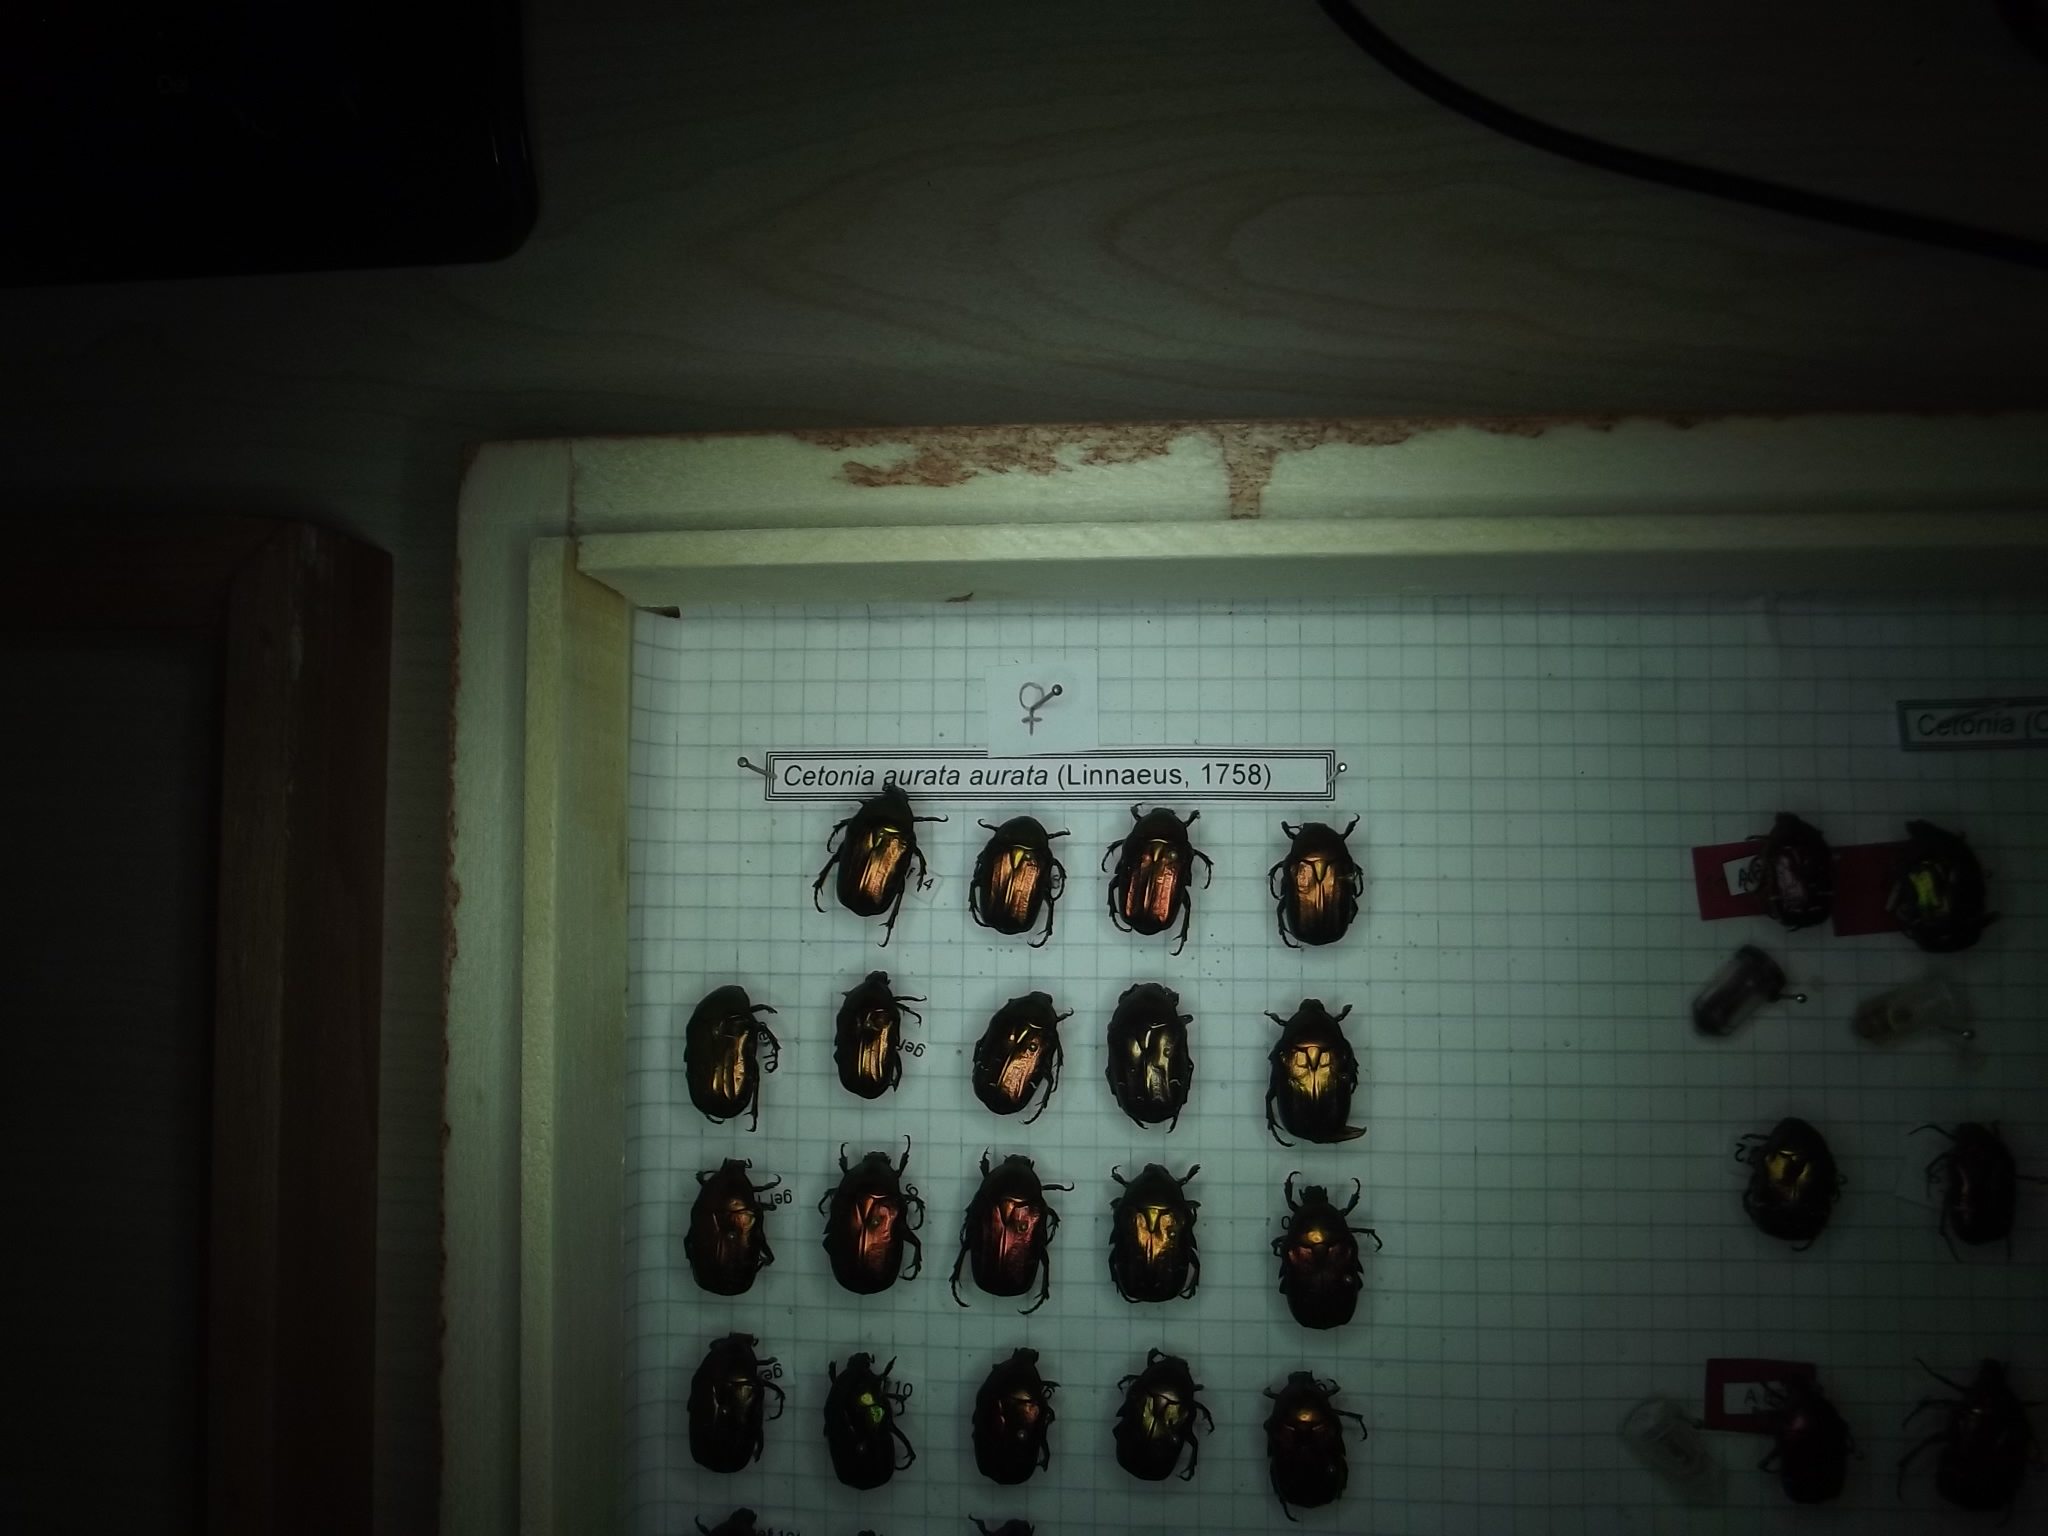Cetonia_aurata: (945, 807, 1095, 963), (1255, 800, 1384, 963)
